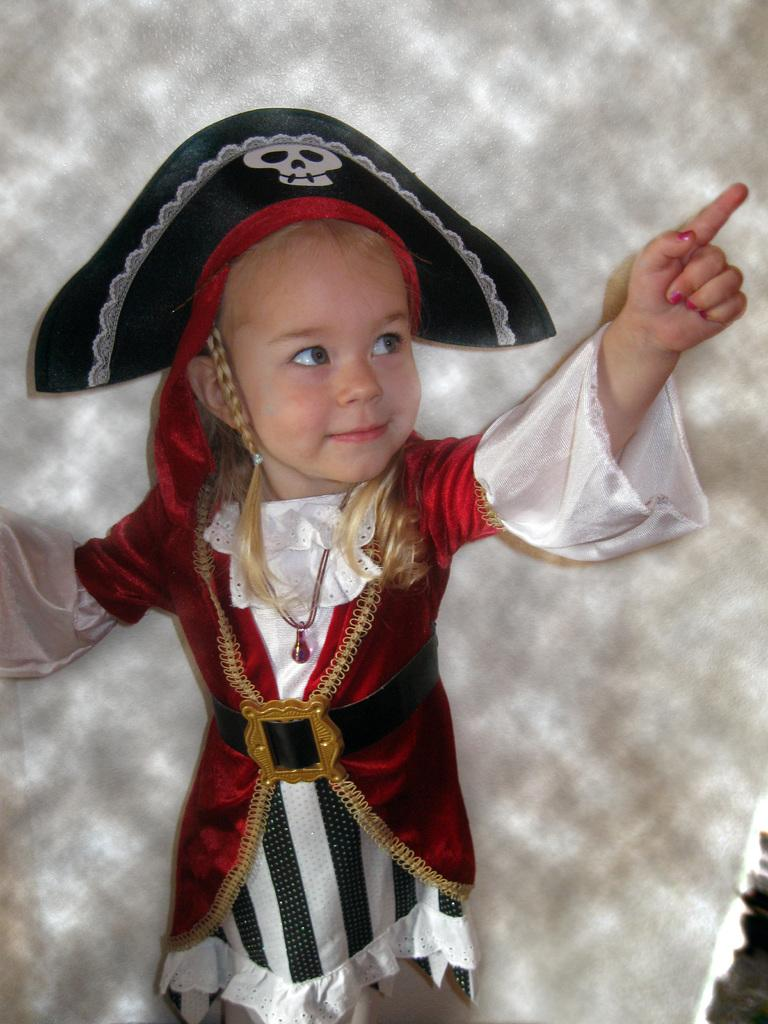Hat: (22, 102, 560, 398)
